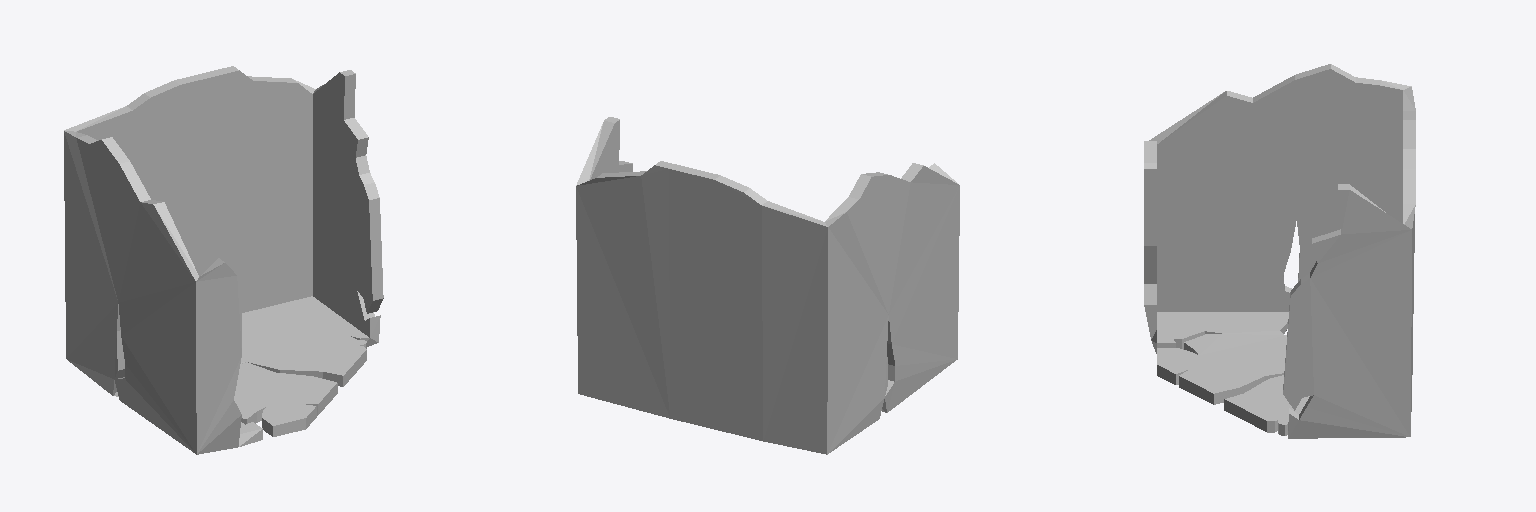
Rendered from room3part2.obj.
3 views of the same model, side by side, from view 1: azimuth 30°, elevation 25°; view 2: azimuth 150°, elevation 25°; view 3: azimuth 270°, elevation 25° (orthographic).
Bounding box in the file's own units: 2.38 × 2.28 × 2.17.